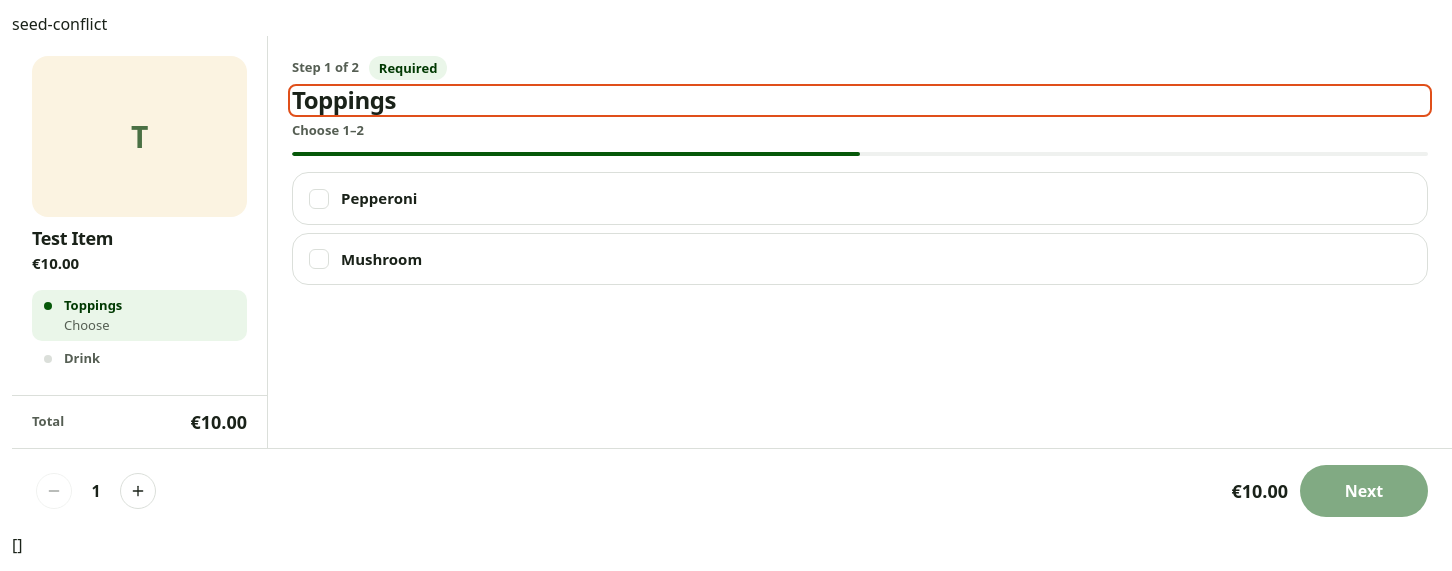
Test case: ranged (1–2) › enables Next at one, never auto-advances, re-disables on deselect
Expected: the button "Next" is disabled, [1300,465,1428,517]
What coordinates should you click on to do the following:
click the checkbox labelled "Pepperoni"
I would click on:
 (379, 198)
Its box is [292,172,1428,225].
Wait 400 ms
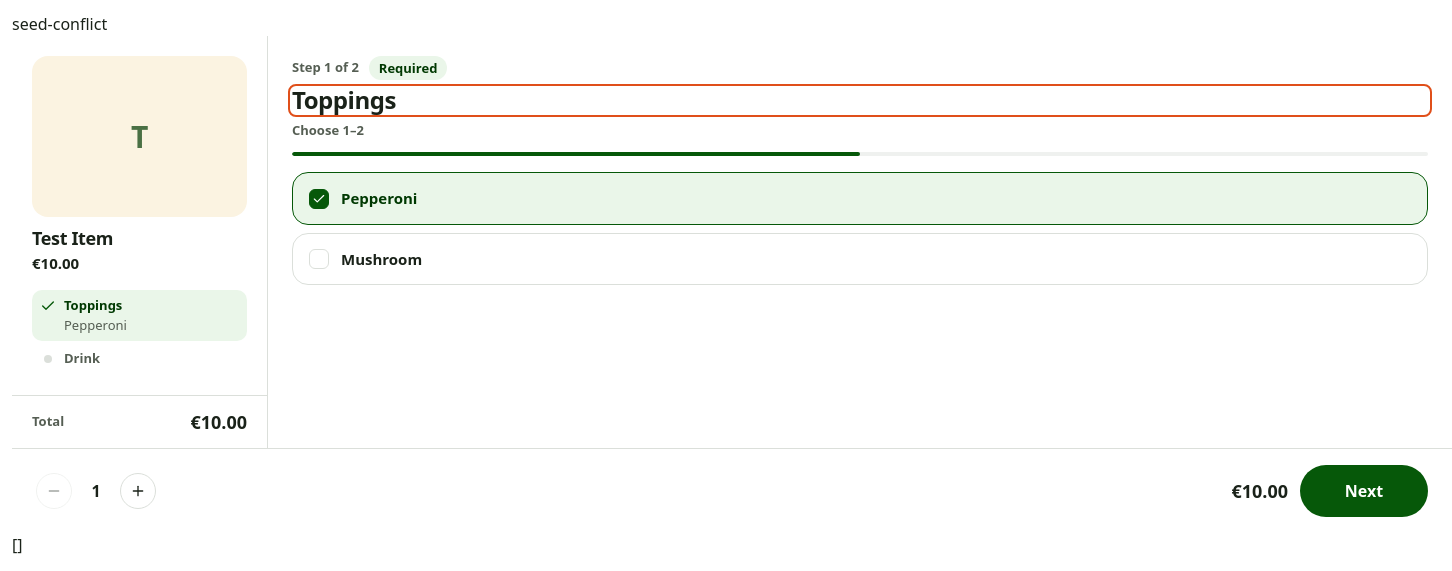
Expected: the heading "Toppings" is shown, [292,83,396,116]
Result: the button "Next" is enabled at [1300,465,1428,517]
What coordinates should you click on to do the following:
click the checkbox labelled "Pepperoni"
I would click on:
 (379, 198)
Its box is [292,172,1428,225].
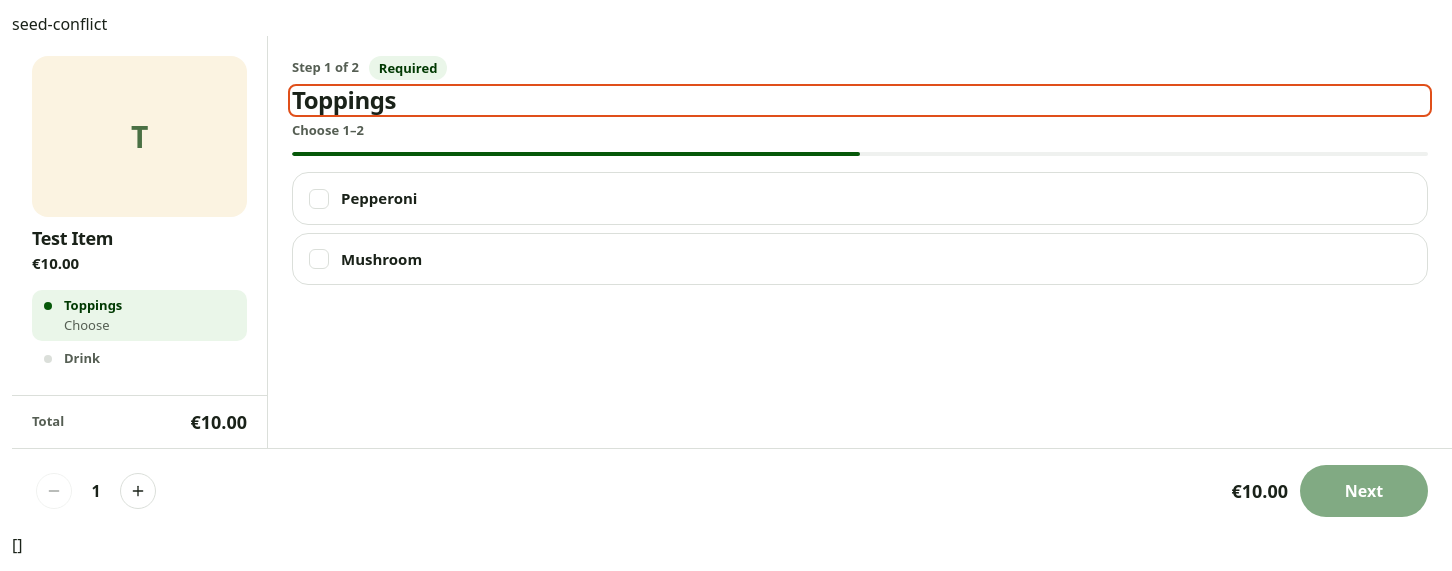
Result: the button "Next" is disabled at [1300,465,1428,517]
